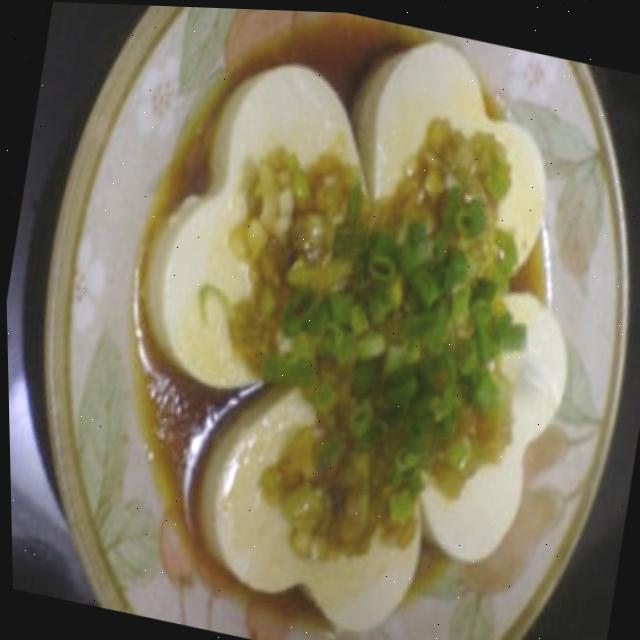豆腐料理: (90, 3, 626, 640)
